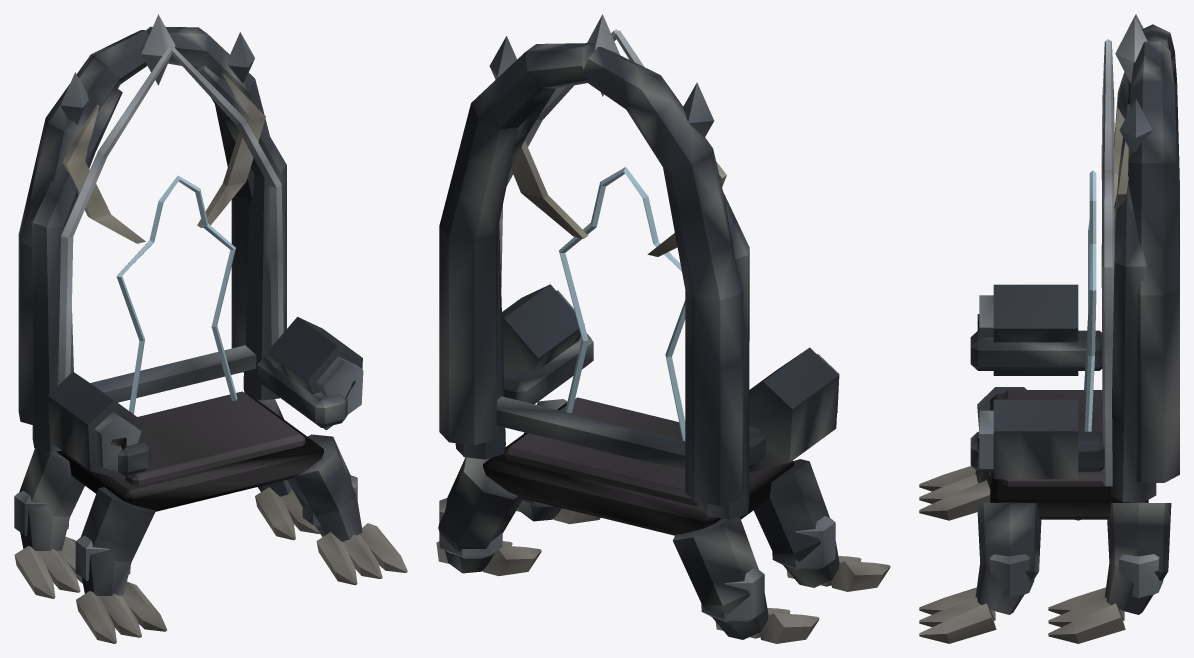
File: hollow_throne.fbx
The picture shows the model from 3 angles, left to right: view 1: azimuth 30°, elevation 25°; view 2: azimuth 150°, elevation 25°; view 3: azimuth 270°, elevation 25°; orthographic projection. The views are drawn at different scales.
Parts seen in each view (by area): view 1: hollow_throne; view 2: hollow_throne; view 3: hollow_throne.
Part boxes in pixels (x1=…): hollow_throne: x1=14, y1=14, x2=407, y2=643; hollow_throne: x1=436, y1=14, x2=890, y2=643; hollow_throne: x1=919, y1=14, x2=1179, y2=643.
Bounding box in the file's own units: 6.1 × 10 × 4.28.
